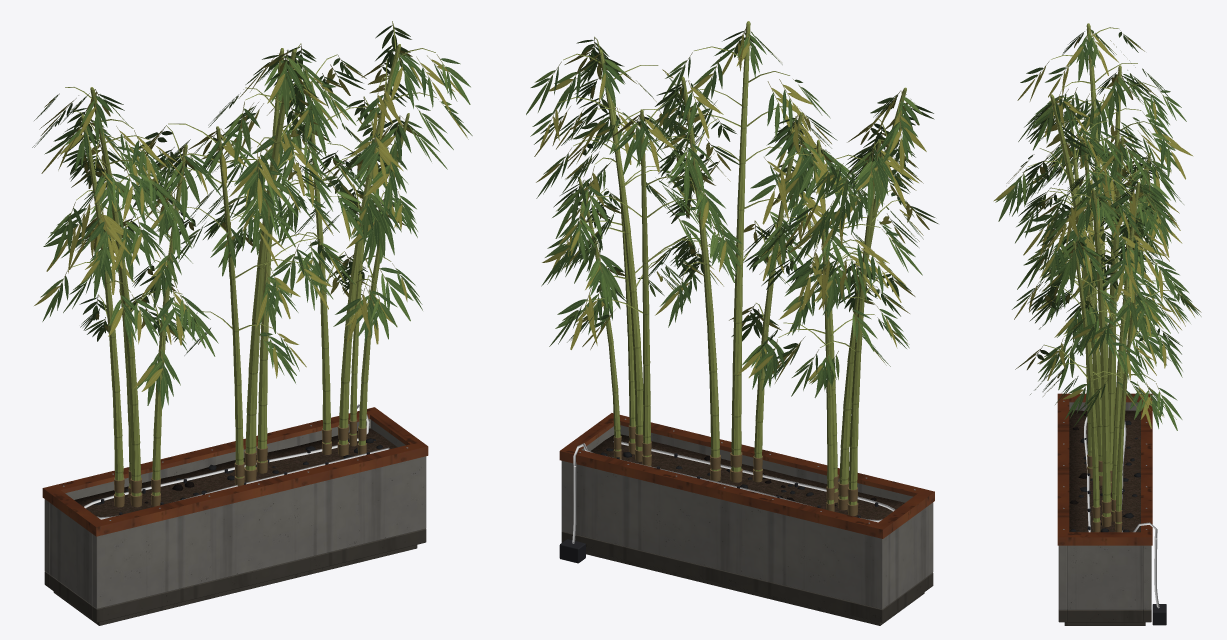
The model's file is bamboo_planter.glb.
3 renders of one model, left to right at view 1: azimuth 30°, elevation 25°; view 2: azimuth 150°, elevation 25°; view 3: azimuth 270°, elevation 25°, orthographic. The views are drawn at different scales.
Parts seen in each view (by area): view 1: basin_concrete_cast_3, culms_1_foliage_bamboo_3, culms_3_foliage_bamboo_3, culms_2_foliage_bamboo_3, culms_2_bamboo_culm_0, culms_1_bamboo_culm_0, culms_3_bamboo_culm_0, coping_steel_corten_1, coping_steel_corten_wet_0, basin_concrete_grime_2, soil_soil_0, basin_concrete_cast_7 (+9 smaller); view 2: basin_concrete_cast_5, culms_1_foliage_bamboo_3, culms_2_foliage_bamboo_3, culms_3_foliage_bamboo_3, culms_2_bamboo_culm_0, culms_3_bamboo_culm_0, culms_1_bamboo_culm_0, coping_steel_corten_1, soil_soil_0, coping_steel_corten_wet_0, basin_concrete_grime_4, basin_concrete_cast_7 (+10 smaller); view 3: culms_3_foliage_bamboo_3, culms_2_foliage_bamboo_3, culms_1_foliage_bamboo_3, culms_3_bamboo_culm_0, basin_concrete_cast_9, soil_soil_0, coping_steel_corten_wet_0, culms_2_bamboo_culm_0, culms_1_bamboo_culm_0, culms_3_bamboo_culm_1, basin_concrete_grime_8, coping_steel_corten_1 (+7 smaller).
Boxes of the visible parts, x1=… form: basin_concrete_cast_3: x1=92, y1=456, x2=426, y2=608; culms_1_foliage_bamboo_3: x1=32, y1=89, x2=222, y2=409; culms_3_foliage_bamboo_3: x1=250, y1=25, x2=472, y2=344; culms_2_foliage_bamboo_3: x1=124, y1=44, x2=367, y2=383; culms_2_bamboo_culm_0: x1=216, y1=48, x2=296, y2=478; culms_1_bamboo_culm_0: x1=81, y1=87, x2=187, y2=496; culms_3_bamboo_culm_0: x1=304, y1=44, x2=409, y2=445; coping_steel_corten_1: x1=42, y1=414, x2=428, y2=536; coping_steel_corten_wet_0: x1=43, y1=407, x2=427, y2=526; basin_concrete_grime_2: x1=92, y1=529, x2=426, y2=622; soil_soil_0: x1=74, y1=428, x2=397, y2=516; basin_concrete_cast_7: x1=49, y1=502, x2=92, y2=605; basin_concrete_cast_5: x1=561, y1=461, x2=886, y2=609; culms_1_foliage_bamboo_3: x1=744, y1=90, x2=938, y2=397; culms_2_foliage_bamboo_3: x1=648, y1=28, x2=858, y2=389; culms_3_foliage_bamboo_3: x1=526, y1=37, x2=741, y2=349; culms_2_bamboo_culm_0: x1=681, y1=21, x2=802, y2=471; culms_3_bamboo_culm_0: x1=578, y1=49, x2=650, y2=456; culms_1_bamboo_culm_0: x1=816, y1=87, x2=906, y2=505; coping_steel_corten_1: x1=559, y1=421, x2=934, y2=538; soil_soil_0: x1=590, y1=434, x2=904, y2=519; coping_steel_corten_wet_0: x1=560, y1=413, x2=934, y2=529; basin_concrete_grime_4: x1=561, y1=531, x2=886, y2=622; basin_concrete_cast_7: x1=887, y1=506, x2=928, y2=605; culms_3_foliage_bamboo_3: x1=1015, y1=173, x2=1201, y2=430; culms_2_foliage_bamboo_3: x1=993, y1=97, x2=1201, y2=390; culms_1_foliage_bamboo_3: x1=1017, y1=28, x2=1193, y2=345; culms_3_bamboo_culm_0: x1=1072, y1=182, x2=1139, y2=523; basin_concrete_cast_9: x1=1067, y1=545, x2=1142, y2=609; soil_soil_0: x1=1069, y1=410, x2=1140, y2=532; coping_steel_corten_wet_0: x1=1057, y1=393, x2=1152, y2=537; culms_2_bamboo_culm_0: x1=1050, y1=94, x2=1123, y2=482; culms_1_bamboo_culm_0: x1=1082, y1=23, x2=1150, y2=406; culms_3_bamboo_culm_1: x1=1044, y1=171, x2=1174, y2=381; basin_concrete_grime_8: x1=1067, y1=610, x2=1142, y2=622; coping_steel_corten_1: x1=1057, y1=398, x2=1152, y2=545.
Size of what is drawn, in the model's own units: 2.54 by 3.12 by 1.38.
14 materials, 14 textured.
